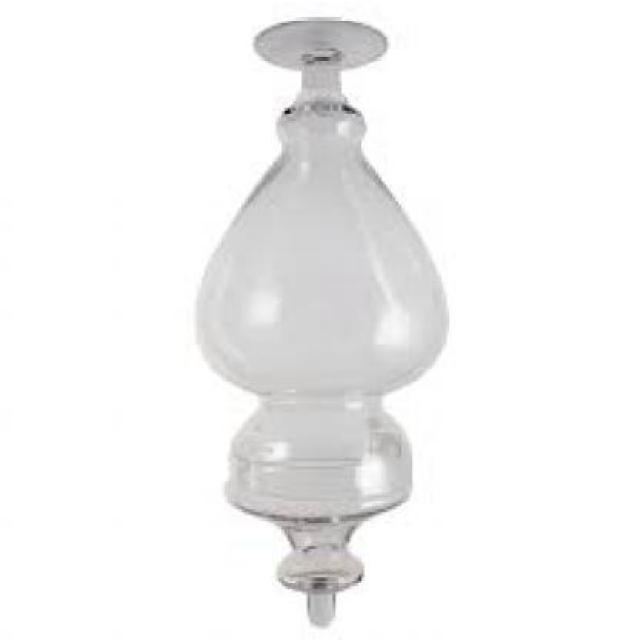GLASS: (194, 22, 446, 628)
